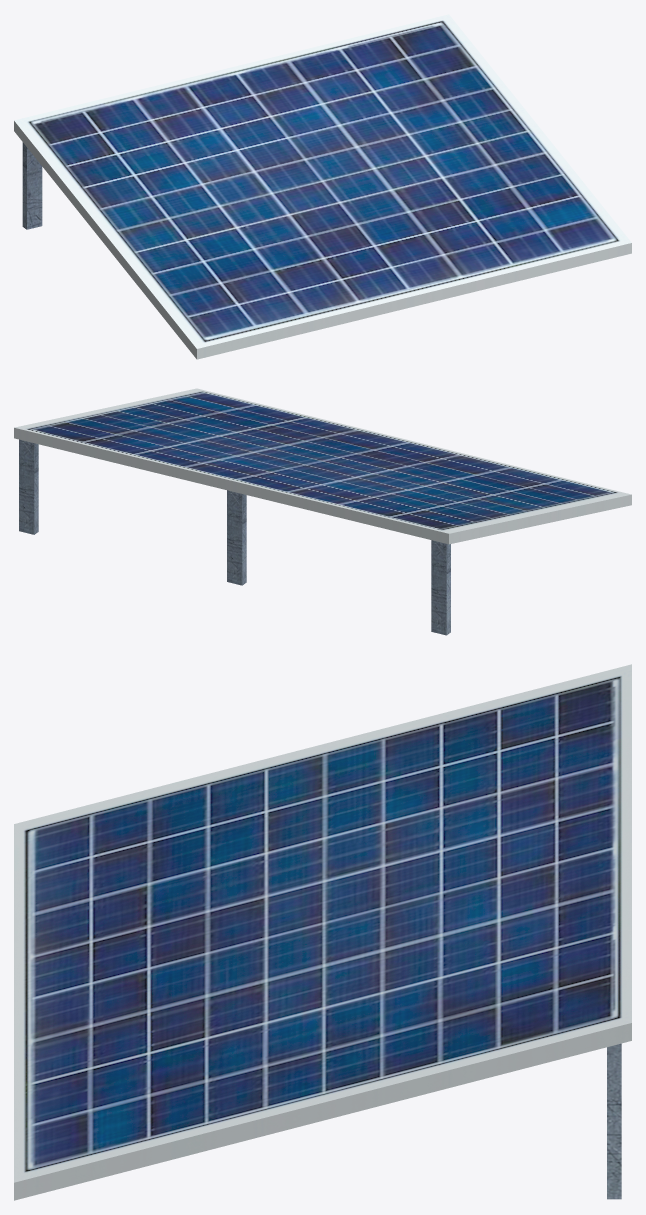
The model's file is sun_panel.fbx.
3 renders of one model, top to bottom at view 1: azimuth 30°, elevation 25°; view 2: azimuth 150°, elevation 25°; view 3: azimuth 270°, elevation 25°, orthographic. The views are drawn at different scales.
Parts seen in each view (by area): view 1: Plane001; view 2: Plane001; view 3: Plane001.
Boxes of the visible parts, bbox=[...] form: Plane001: bbox=[14, 14, 631, 359]; Plane001: bbox=[14, 388, 631, 635]; Plane001: bbox=[14, 664, 631, 1200].
Size of the model in its own units: 179 by 41.45 by 131.
